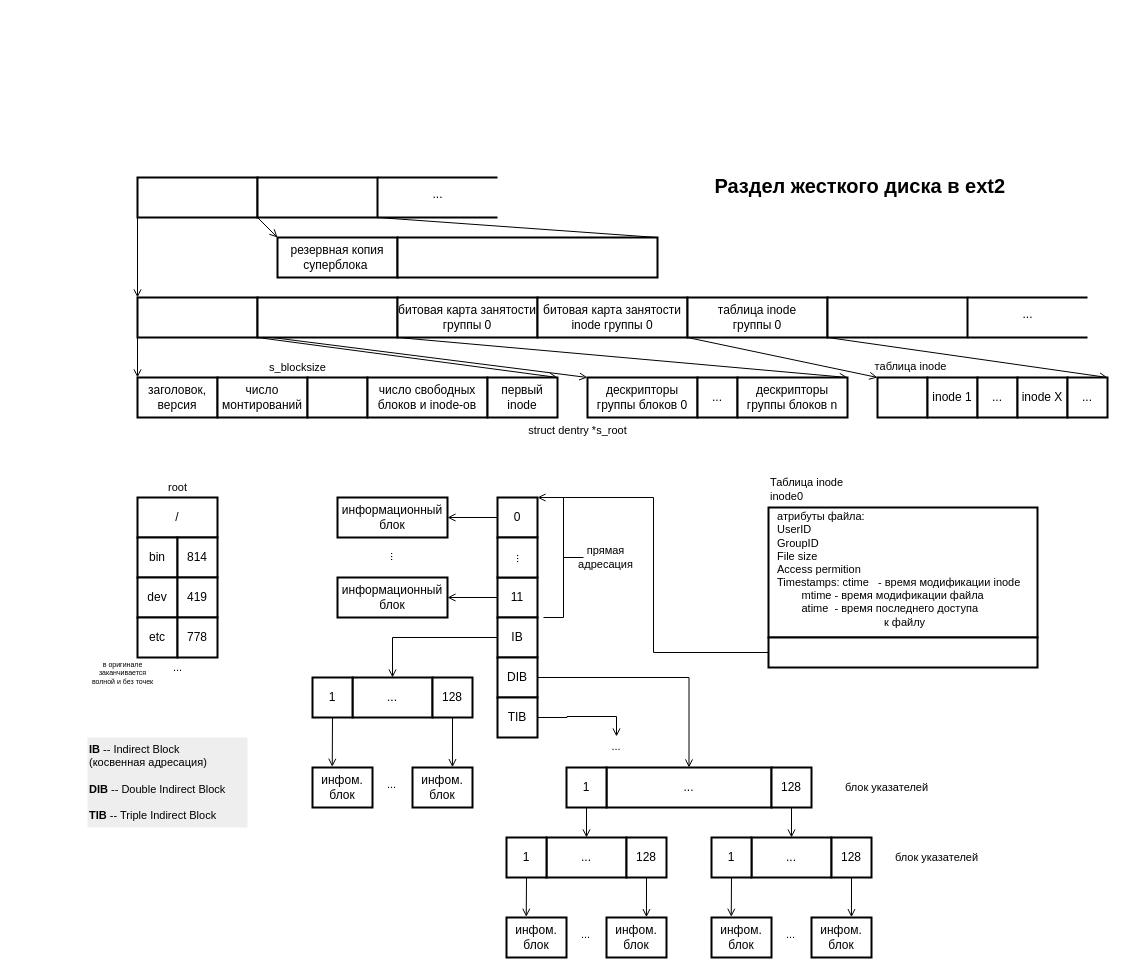
Some shapes in this 1133 by 976 pixel diagram are drawn without their labels. The box of each missing label's shape, as (x1, y1, x2, y2) in pixels:
File location: (767, 636, 1038, 668)
inode 0: (876, 376, 928, 418)
группа блоков 0: (136, 176, 258, 218)
группа блоков 1: (256, 176, 378, 218)
информационные блоки: (826, 296, 968, 338)
размер блока: (306, 376, 368, 418)
суперблок: (136, 296, 258, 338)
таблица дескрипторов групп: (256, 296, 398, 338)
